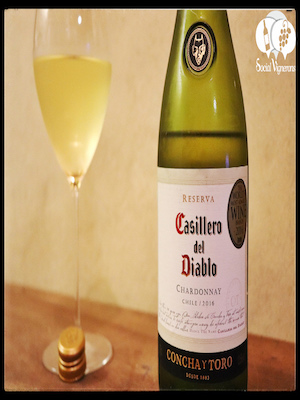casillero del diablo chardonnay: (135, 23, 272, 400)
